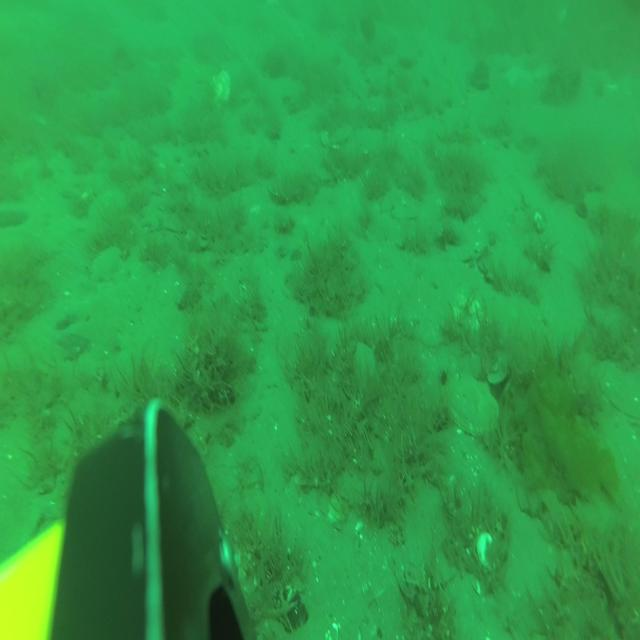scallop: (450, 371, 498, 435), (598, 360, 640, 425), (341, 340, 375, 400), (451, 292, 483, 336), (92, 247, 122, 280), (209, 67, 230, 109)
